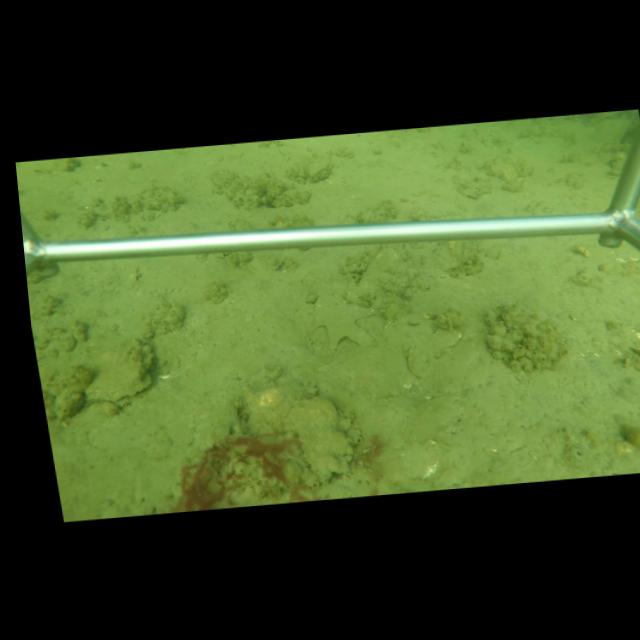Oyster-Closed: (84, 335, 155, 402), (306, 154, 333, 182)
Oyster-Indeterminate: (285, 395, 351, 481)
